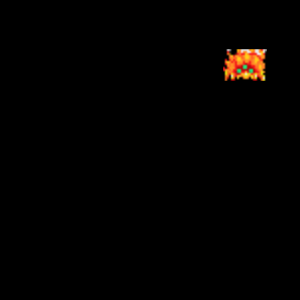Enemy: (223, 49, 267, 81)
